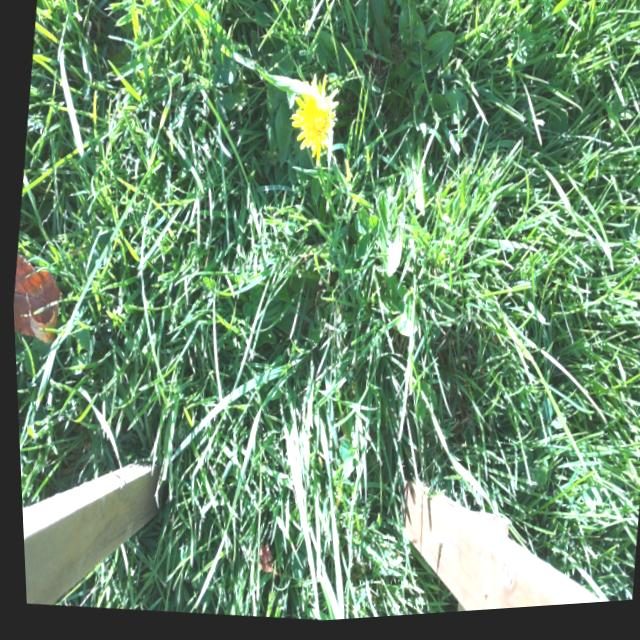base: (336, 109, 357, 143)
flower: (285, 77, 342, 164)
